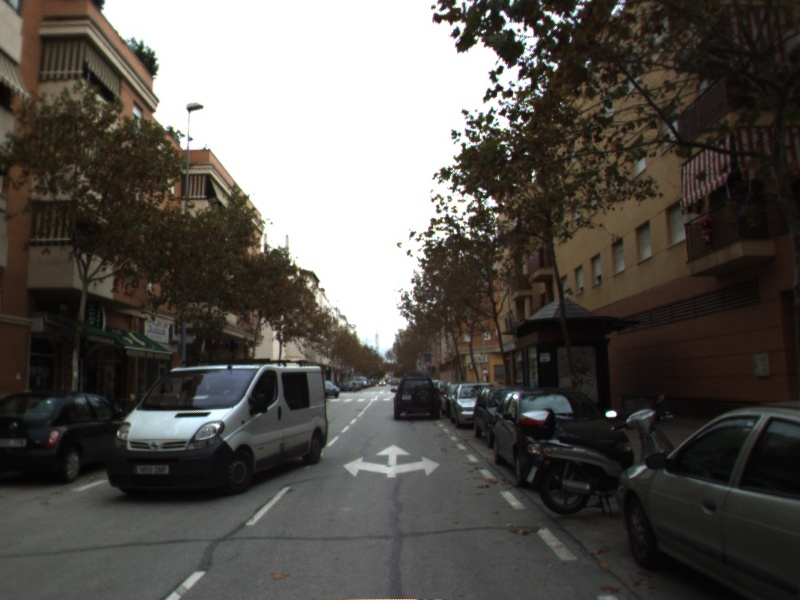STRAIGHT_LEFT_RIGHT: (341, 442, 443, 480)
